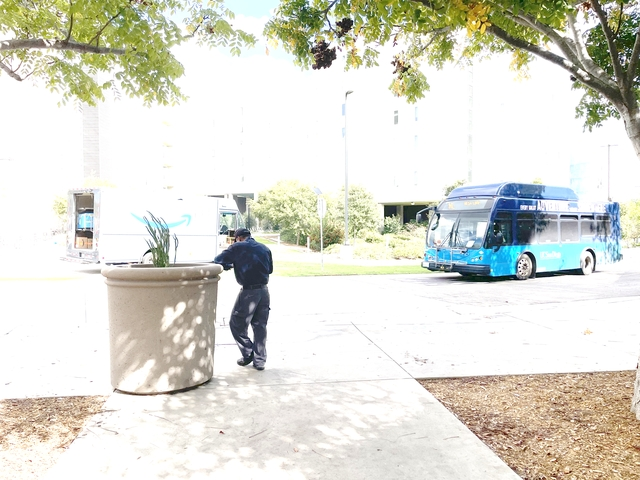Car: (419, 183, 633, 283), (63, 186, 250, 277)
